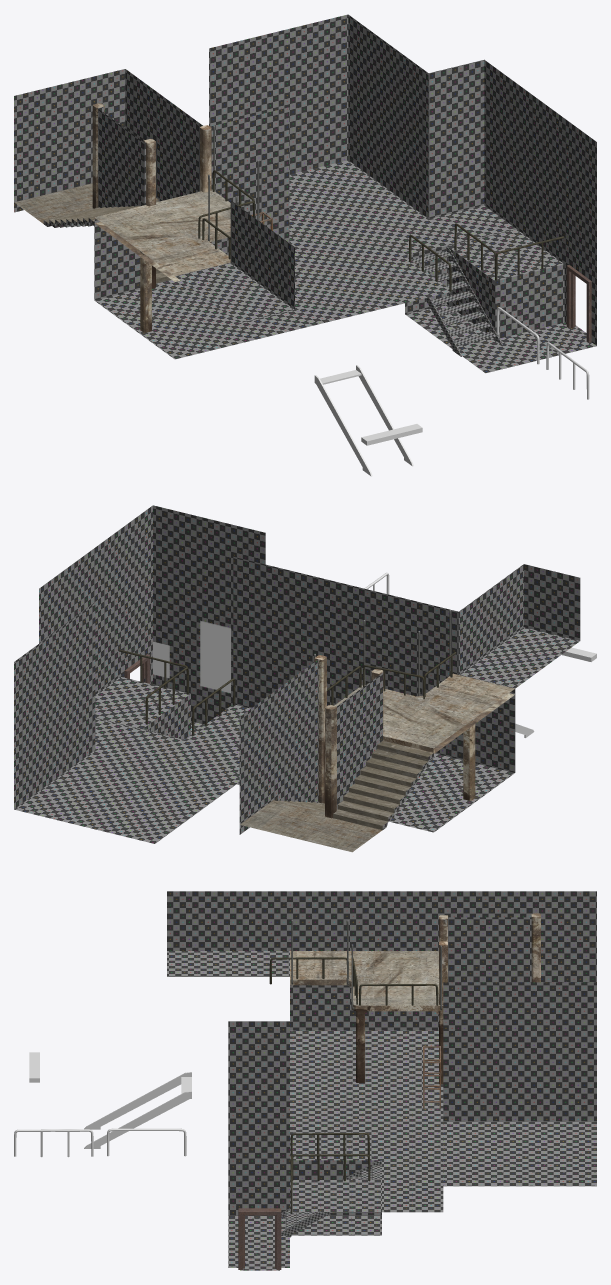
File: room_hall2_new2.gltf
3 views of the same model, one above another, from view 1: azimuth 30°, elevation 25°; view 2: azimuth 150°, elevation 25°; view 3: azimuth 270°, elevation 25° (orthographic). The views are drawn at different scales.
Parts seen in each view (by area): view 1: floor_and_wall, patro, schody, schody2, schody1, single_door_frame, schody2_edit_zaloha; view 2: floor_and_wall, patro, schody2; view 3: floor_and_wall, patro, schody1, schody, single_door_frame.
Part boxes in pixels (x1,y1,x2,y2): floor_and_wall: (14,14,596,373); patro: (92,103,230,332); schody: (406,246,502,356); schody2: (14,183,171,283); schody1: (314,365,413,476); single_door_frame: (566,265,591,342); schody2_edit_zaloha: (361,424,422,445); floor_and_wall: (14,505,580,843); patro: (314,655,514,818); schody2: (240,740,433,852); floor_and_wall: (167,891,596,1270); patro: (290,913,540,1084); schody1: (84,1072,191,1148); schody: (281,1160,381,1237); single_door_frame: (238,1208,281,1269).
Bounding box in the file's own units: 14.21 × 7.08 × 18.98.
